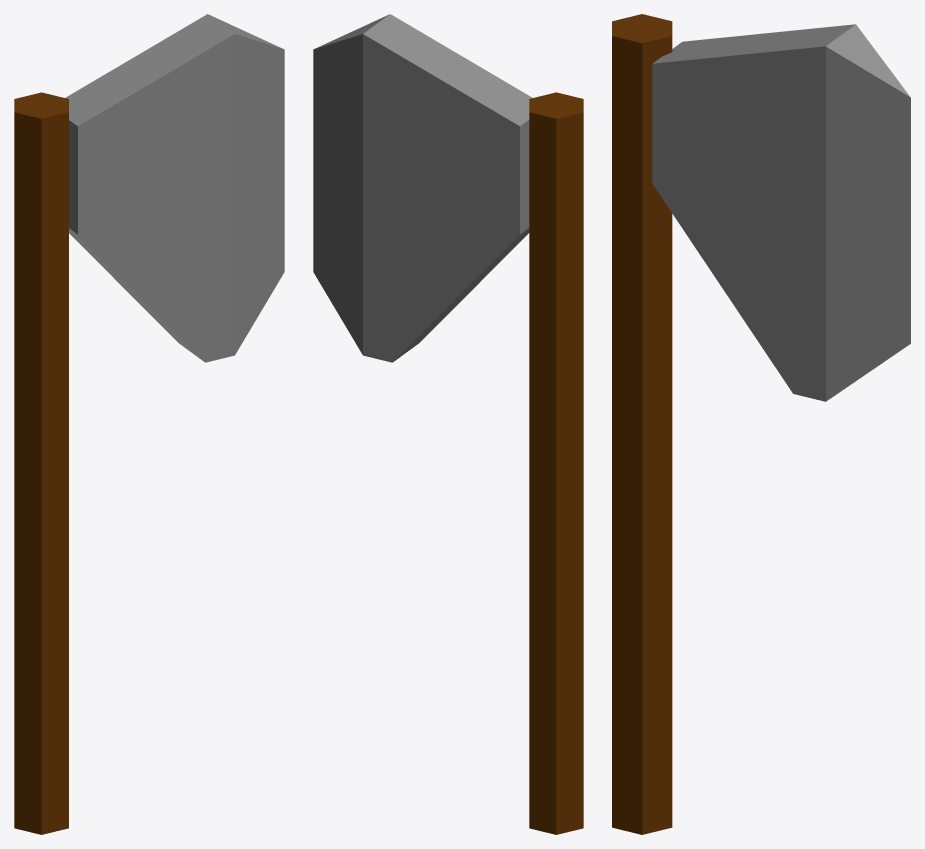
Rendered from primitiveAxe.dae.
The picture shows the model from 3 angles, left to right: view 1: azimuth 30°, elevation 25°; view 2: azimuth 150°, elevation 25°; view 3: azimuth 330°, elevation 25°; orthographic projection. The views are drawn at different scales.
Parts seen in each view (by area): view 1: SketchUp (×2); view 2: SketchUp (×2); view 3: SketchUp (×2).
Part boxes in pixels (x1,y1,x2,y2): SketchUp (×2): (14,14,284,834); SketchUp (×2): (313,14,583,834); SketchUp (×2): (612,14,910,834).
Bounding box in the file's own units: 102 × 17.93 × 273.
